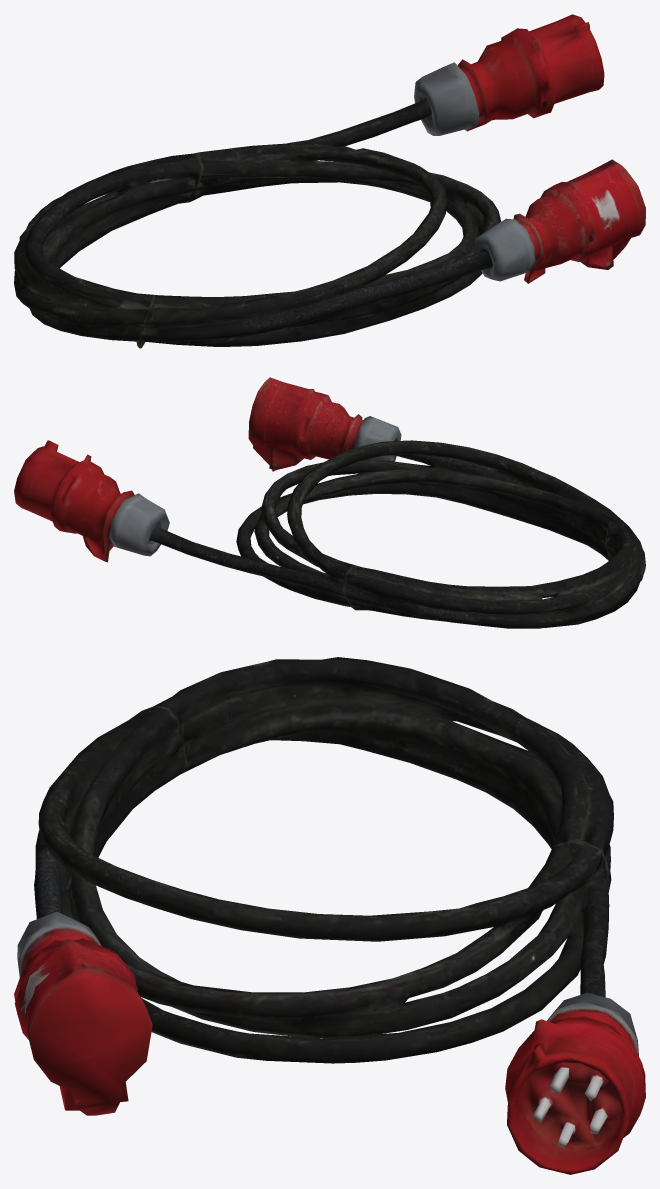
File: power_cable_low.glb
The picture shows the model from 3 angles, top to bottom: view 1: azimuth 30°, elevation 25°; view 2: azimuth 150°, elevation 25°; view 3: azimuth 270°, elevation 25°; orthographic projection. The views are drawn at different scales.
Visible parts, largest first — view 1: vgyiea1aw_LOD0_TIER3_000; view 2: vgyiea1aw_LOD0_TIER3_000; view 3: vgyiea1aw_LOD0_TIER3_000.
Boxes of the visible parts, x1,y1,x2,y2 form: vgyiea1aw_LOD0_TIER3_000: (14,14,645,348); vgyiea1aw_LOD0_TIER3_000: (14,377,645,628); vgyiea1aw_LOD0_TIER3_000: (14,657,645,1174).
Size of the model in its own units: 0.5846 by 0.0932 by 0.3218.
Materials: 1 (1 with a texture image).
